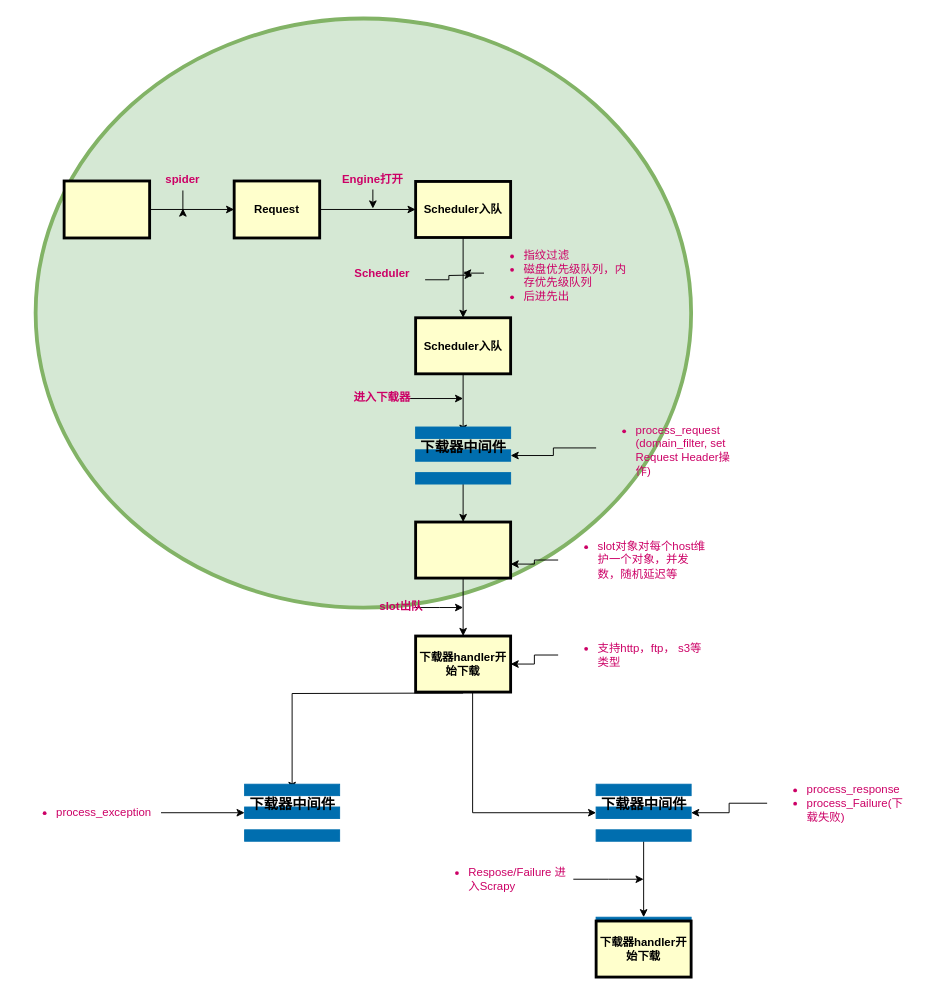
Some shapes in this 927 by 999 pixel diagram are drawn without their labels. Each missing label, with the centre of its shape:
"url" goes at point (106, 209).
"下载器.slot 入队" goes at point (463, 549).
